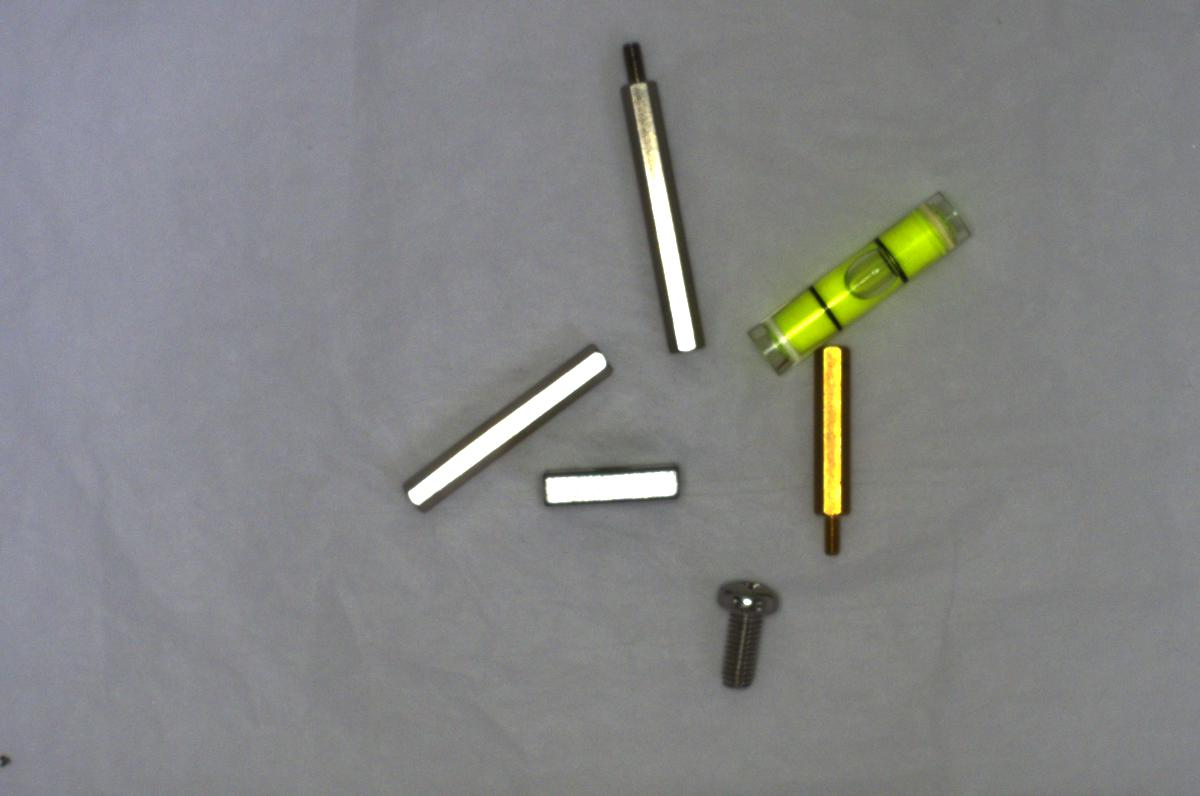Double hexagonal column: (386, 335, 613, 519)
Hexagon pillar: (806, 335, 865, 567)
Hexagonal steel column: (617, 36, 705, 358)
Horizontal bubble: (744, 180, 979, 375)
Rectangular nut: (534, 456, 688, 509)
Round head screw: (704, 572, 786, 694)
